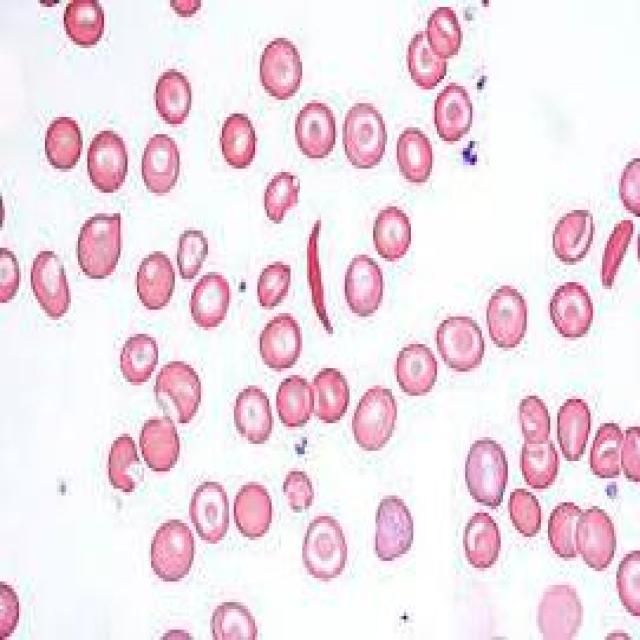RBC: (182, 461, 236, 554), (252, 24, 312, 107), (338, 93, 392, 179), (295, 509, 354, 582), (182, 262, 236, 341), (432, 306, 489, 379), (392, 330, 446, 406), (352, 382, 401, 461), (402, 21, 454, 93), (54, 0, 114, 62), (85, 127, 135, 200), (487, 282, 536, 355), (253, 316, 307, 382), (517, 426, 567, 496), (144, 59, 194, 128), (137, 134, 184, 207), (458, 506, 506, 574), (227, 382, 274, 451), (546, 203, 595, 268), (548, 279, 597, 344), (368, 200, 416, 265), (552, 392, 592, 468), (428, 83, 474, 148), (296, 96, 336, 169), (260, 172, 307, 234), (248, 255, 298, 313), (345, 248, 385, 320), (220, 110, 262, 176), (586, 423, 628, 489), (392, 131, 435, 182)
sickle cell: (298, 210, 336, 341)
